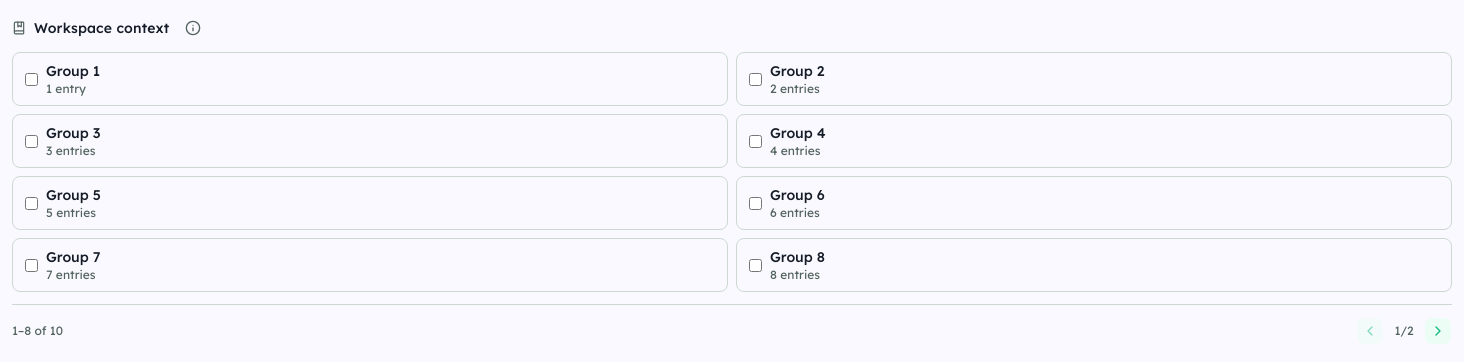
Test: AgentWorkspaceContextGroupsFields › pages groups and keeps an off-page selection attached by id
Click the button named "Next page".
click(1438, 331)  # box x1=1424 y1=317 x2=1452 y2=345
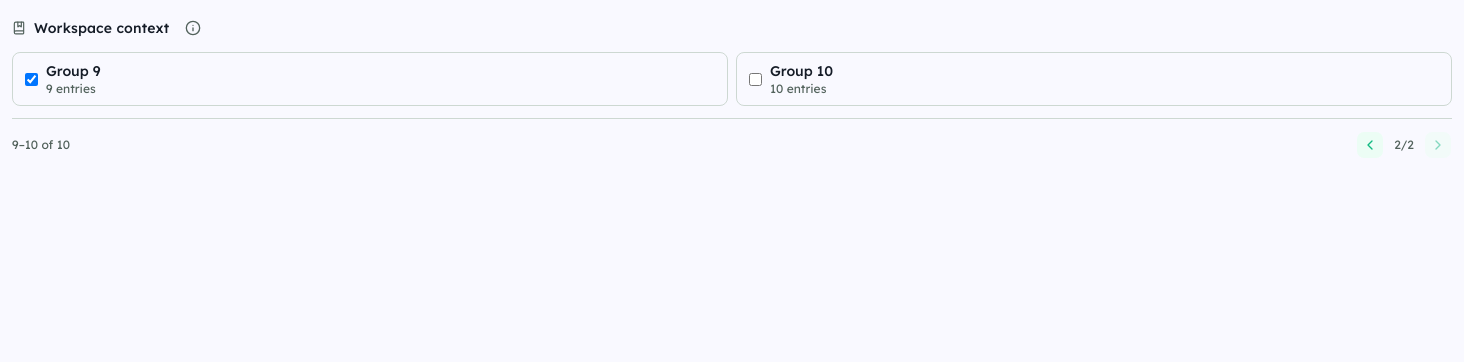
Expected: the form is shown, x1=12 y1=12 x2=1452 y2=159
Result: the checkbox labelled "Group 9 9 entries" is checked at x1=25 y1=72 x2=38 y2=86
